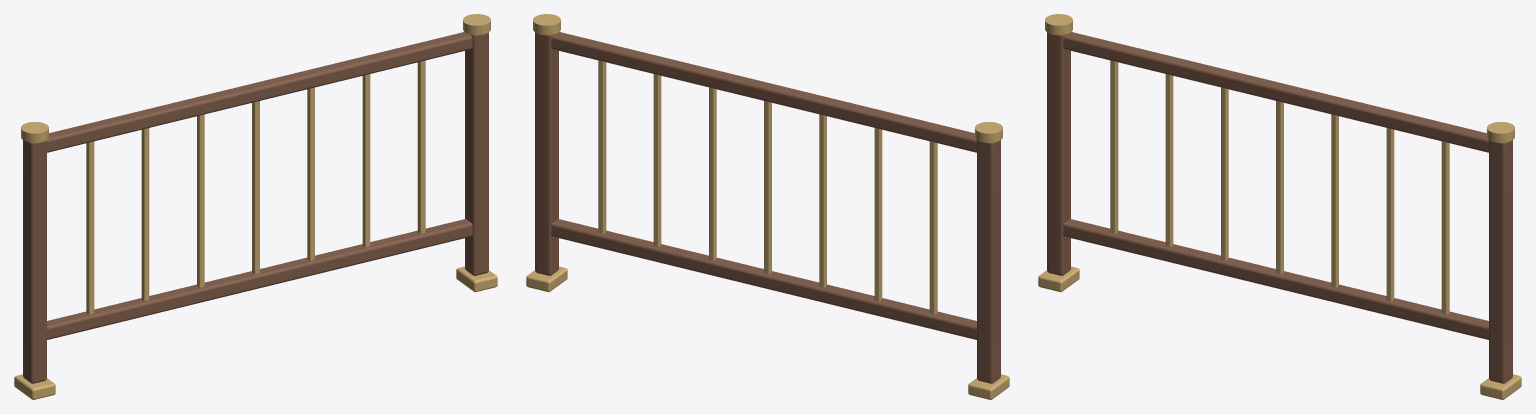
File: griffin-airmail-roost-and-posthouse-platform-railing-s-b5676899__30497.glb
3 renders of one model, left to right at view 1: azimuth 30°, elevation 25°; view 2: azimuth 150°, elevation 25°; view 3: azimuth 330°, elevation 25°, orthographic.
Parts seen in each view (by area): view 1: platform-railing-straight; view 2: platform-railing-straight; view 3: platform-railing-straight.
Part boxes in pixels (x1,y1,x2,y2): platform-railing-straight: [14, 14, 497, 399]; platform-railing-straight: [526, 14, 1009, 399]; platform-railing-straight: [1038, 14, 1521, 399].
Size of the model in its own units: 2.11 by 1.14 by 0.1499.
